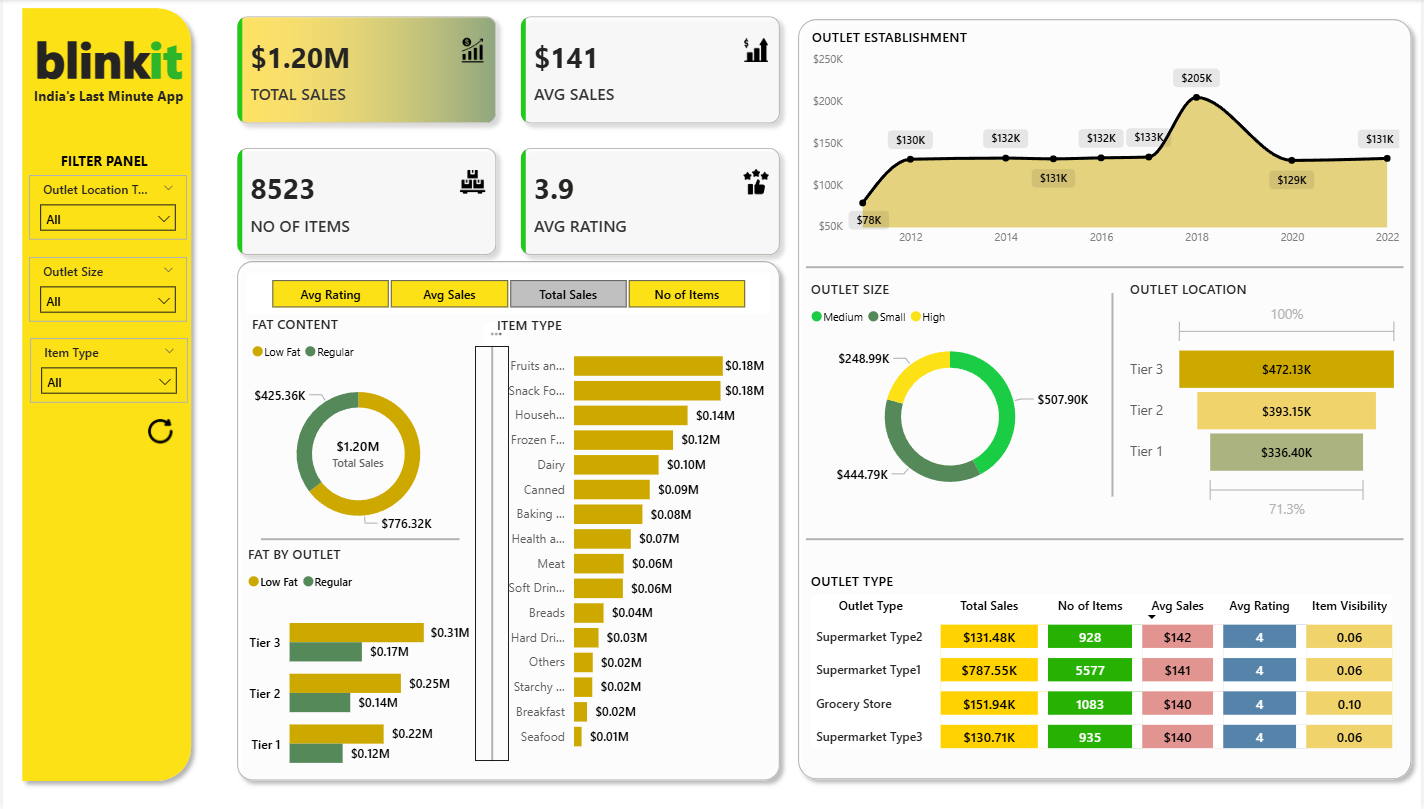

Layout of this report page (visuals, bound fields, positions):
{"tool":"powerbi","page":{"name":"Page 1","canvas":[1400,800],"ordinal":0},"visuals":[{"type":"shape","box":[10,0,185,781.2],"z":0},{"type":"textbox","box":[19,21,171,86],"z":1000},{"type":"textbox","box":[26,82,169,30],"z":2000},{"type":"cardVisual","fields":{"Data":["BlinkIT Grocery Data.Total Sales","BlinkIT Grocery Data.Avg Sales","BlinkIT Grocery Data.No of Items","BlinkIT Grocery Data.Avg Rating"]},"box":[213.8,0,570.2,270.2],"z":3000},{"type":"shape","box":[222,250,554,531],"z":4000},{"type":"donutChart","title":"FAT CONTENT","fields":{"Y":["BlinkIT Grocery Data.Total Sales"],"Category":["BlinkIT Grocery Data.Item Fat Content"]},"box":[241,312,220,230],"z":5000},{"type":"slicer","fields":{"Values":["Metrics.Metrics"]},"box":[240.4,270.2,517,41.5],"z":6000},{"type":"cardVisual","fields":{"Data":["BlinkIT Grocery Data.Total Sales"]},"box":[303.8,415.4,93.1,65.4],"z":7000},{"type":"clusteredBarChart","title":"FAT BY OUTLET","fields":{"Y":["BlinkIT Grocery Data.Total Sales"],"Category":["BlinkIT Grocery Data.Outlet Location Type"],"Series":["BlinkIT Grocery Data.Item Fat Content"]},"box":[237,539,229,242],"z":8000},{"type":"shape","box":[255,519,196,30],"z":9000},{"type":"shape","box":[466,343,34,410],"z":10000},{"type":"barChart","title":"ITEM TYPE","fields":{"Y":["BlinkIT Grocery Data.Total Sales"],"Category":["BlinkIT Grocery Data.Item Type"]},"box":[483,313,274,440],"z":11000},{"type":"shape","box":[776.2,11.2,623.8,768.8],"z":12000},{"type":"lineChart","title":"OUTLET ESTABLISHMENT","fields":{"Y":["BlinkIT Grocery Data.Total Sales"],"Category":["BlinkIT Grocery Data.Outlet Establishment Year"]},"box":[793.8,28.8,590,225],"z":13000},{"type":"shape","box":[793.3,250,590,30],"z":14000},{"type":"donutChart","title":"OUTLET SIZE","fields":{"Y":["BlinkIT Grocery Data.Total Sales"],"Category":["BlinkIT Grocery Data.Outlet Size"]},"box":[793.3,277.8,284.4,225.6],"z":15000},{"type":"shape","box":[1078.9,290,34.4,201.1],"z":16000},{"type":"funnel","title":"OUTLET LOCATION","fields":{"Y":["Sum(BlinkIT Grocery Data.Sales)"],"Category":["BlinkIT Grocery Data.Outlet Location Type"]},"box":[1107.8,277.8,275.6,241.1],"z":17000},{"type":"pivotTable","title":"OUTLET TYPE","fields":{"Rows":["BlinkIT Grocery Data.Outlet Type"],"Values":["BlinkIT Grocery Data.Total Sales","BlinkIT Grocery Data.No of Items","BlinkIT Grocery Data.Avg Sales","BlinkIT Grocery Data.Avg Rating","Avg(BlinkIT Grocery Data.Item Visibility)"]},"box":[793.3,565.6,590,196.7],"z":18000},{"type":"shape","box":[793.3,518.9,590,30],"z":19000},{"type":"slicer","fields":{"Values":["BlinkIT Grocery Data.Outlet Location Type"]},"box":[25.5,173.6,156.4,63.6],"z":20000},{"type":"slicer","fields":{"Values":["BlinkIT Grocery Data.Outlet Size"]},"box":[25.5,254.5,156.4,63.6],"z":21000},{"type":"slicer","fields":{"Values":["BlinkIT Grocery Data.Item Type"]},"box":[26.4,334.5,156.4,63.6],"z":22000},{"type":"textbox","box":[52.5,146,114,27.5],"z":23000},{"type":"actionButton","box":[129.2,406.9,52.3,40],"z":24000}]}

Visuals, with their boxes in screenshot pixels (x1, y1, x2, y2), scaled from the page's 1400x800 canvas onto the 1424x809 screenshot:
shape: <region>10, 0, 198, 790</region>
textbox: <region>19, 21, 193, 108</region>
textbox: <region>26, 83, 198, 113</region>
cardVisual - BlinkIT Grocery Data.Total Sales x BlinkIT Grocery Data.Avg Sales: <region>217, 0, 797, 273</region>
shape: <region>226, 253, 789, 790</region>
"FAT CONTENT" donutChart: <region>245, 316, 469, 548</region>
slicer - Metrics.Metrics: <region>245, 273, 770, 315</region>
cardVisual - BlinkIT Grocery Data.Total Sales: <region>309, 420, 404, 486</region>
"FAT BY OUTLET" clusteredBarChart: <region>241, 545, 474, 790</region>
shape: <region>259, 525, 459, 555</region>
shape: <region>474, 347, 509, 761</region>
"ITEM TYPE" barChart: <region>491, 317, 770, 761</region>
shape: <region>790, 11, 1423, 789</region>
"OUTLET ESTABLISHMENT" lineChart: <region>807, 29, 1408, 257</region>
shape: <region>807, 253, 1407, 283</region>
"OUTLET SIZE" donutChart: <region>807, 281, 1096, 509</region>
shape: <region>1097, 293, 1132, 497</region>
"OUTLET LOCATION" funnel: <region>1127, 281, 1407, 525</region>
"OUTLET TYPE" pivotTable: <region>807, 572, 1407, 771</region>
shape: <region>807, 525, 1407, 555</region>
slicer - BlinkIT Grocery Data.Outlet Location Type: <region>26, 176, 185, 240</region>
slicer - BlinkIT Grocery Data.Outlet Size: <region>26, 257, 185, 322</region>
slicer - BlinkIT Grocery Data.Item Type: <region>27, 338, 186, 403</region>
textbox: <region>53, 148, 169, 175</region>
actionButton: <region>131, 411, 185, 452</region>
